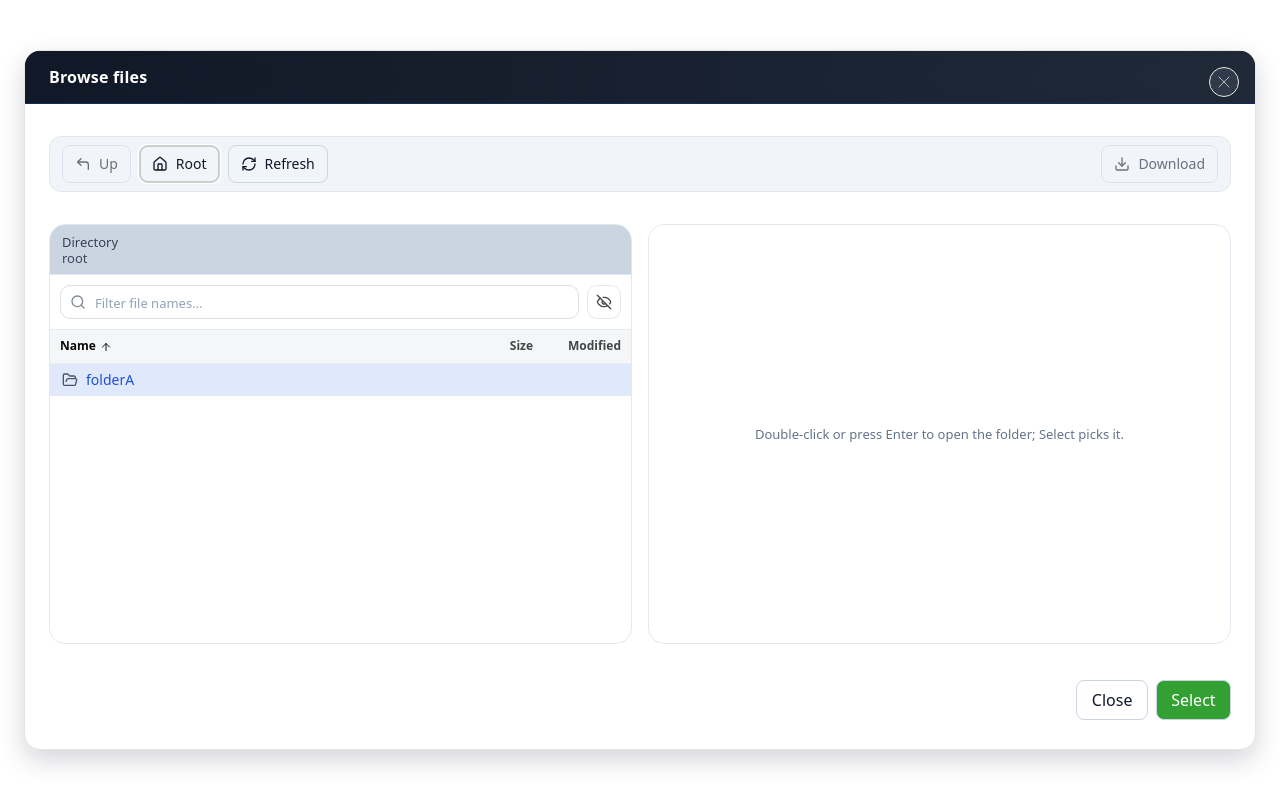
RemoteFileDialog › enters a folder on double click and refreshes listing
Double-click the option "folderA" at {"x": 110, "y": 379}, box [50, 364, 631, 396]
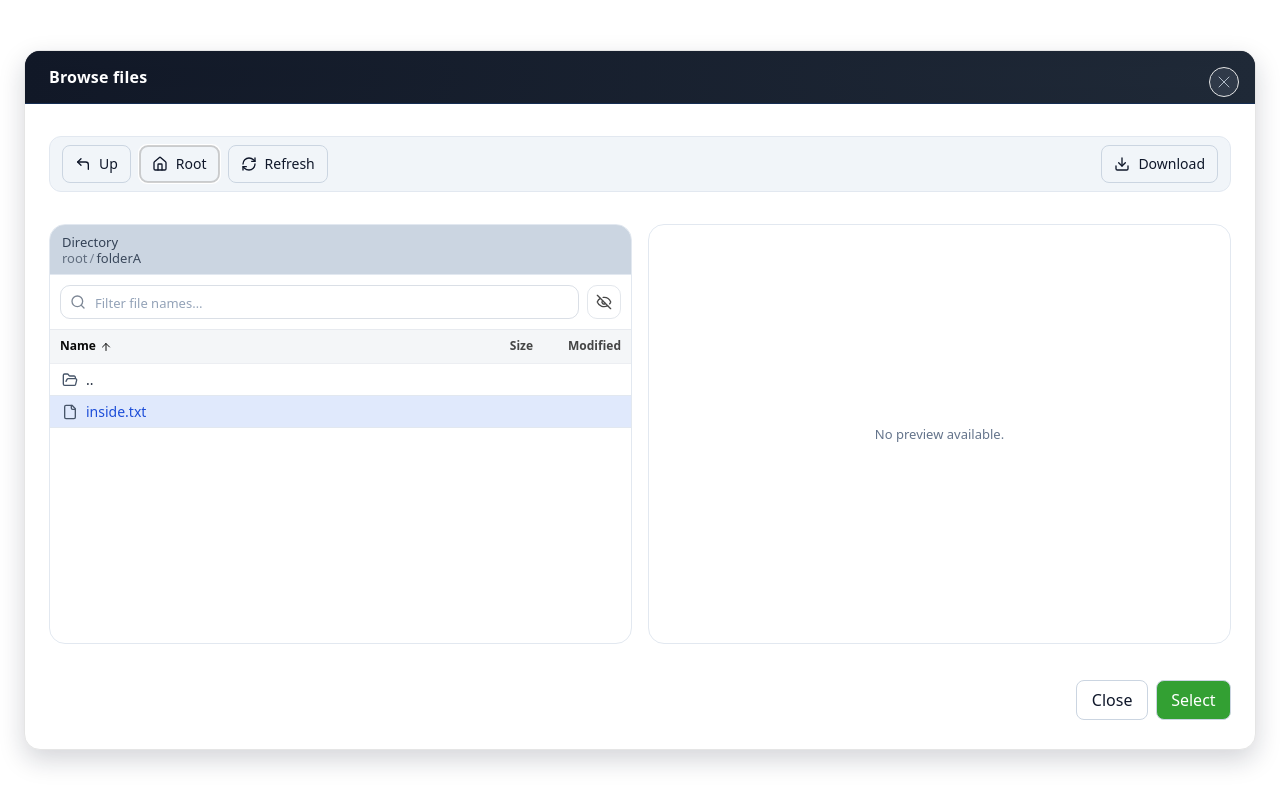
Now the text "inside.txt" is shown, box [86, 402, 146, 421]
